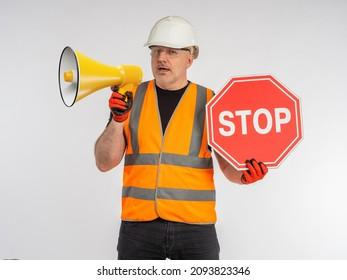Stop: (205, 71, 312, 161)
